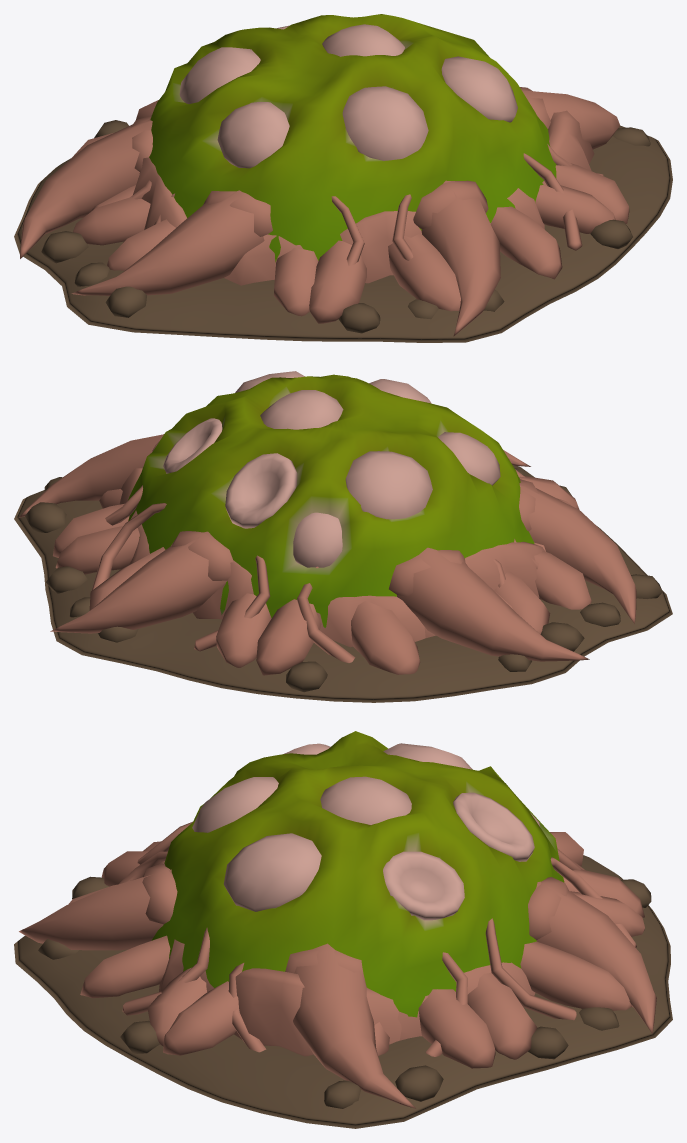
File: biter-spawner.glb
3 views of the same model, one above another, from view 1: azimuth 30°, elevation 25°; view 2: azimuth 150°, elevation 25°; view 3: azimuth 270°, elevation 25° (orthographic). The views are drawn at different scales.
Visible parts, largest first — view 1: body; view 2: body; view 3: body.
Boxes of the visible parts, x1,y1,x2,y2 form: body: (14,14,672,342); body: (14,371,672,702); body: (14,731,672,1128).
Size of the model in its own units: 6.42 by 1.79 by 5.52.
